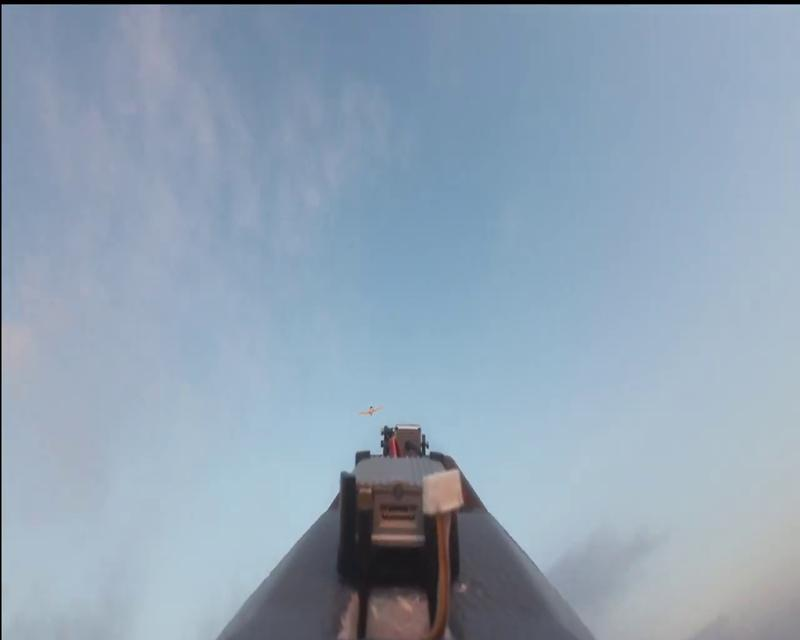UAV: (354, 404, 386, 416)
